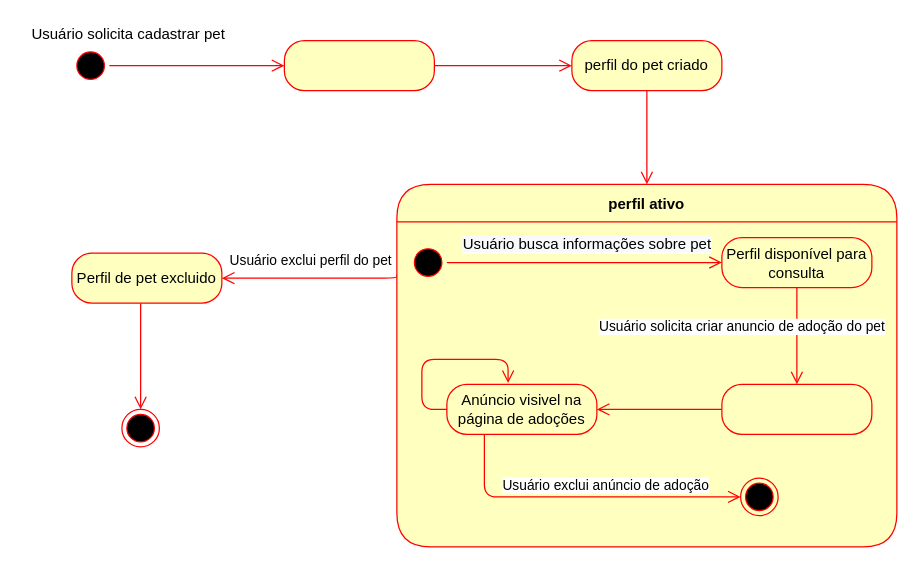
The diagram is 919 pixels wide and 569 high, and some of its shapes have lost their labels. The centre of each missing label's shape, as x and y in pixels:
"Anúncio de adoção do pet criado" goes at (796,408).
"Preenchimento de dados do pet" goes at (358,65).
